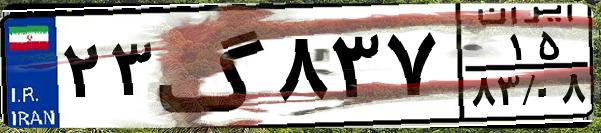0: (535, 70, 560, 125)
1: (508, 27, 537, 80)
2: (57, 26, 110, 100)
3: (330, 28, 385, 110), (110, 28, 156, 98), (495, 70, 520, 125)
5: (537, 27, 568, 80)
7: (385, 28, 445, 110)
8: (270, 28, 330, 110), (560, 70, 590, 125), (470, 70, 495, 125)
گ: (156, 12, 270, 120)
